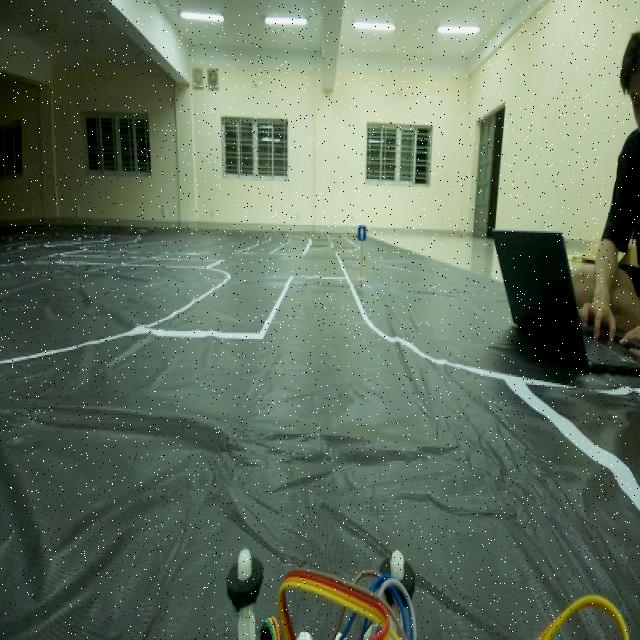onewayroad: (355, 216, 371, 254)
